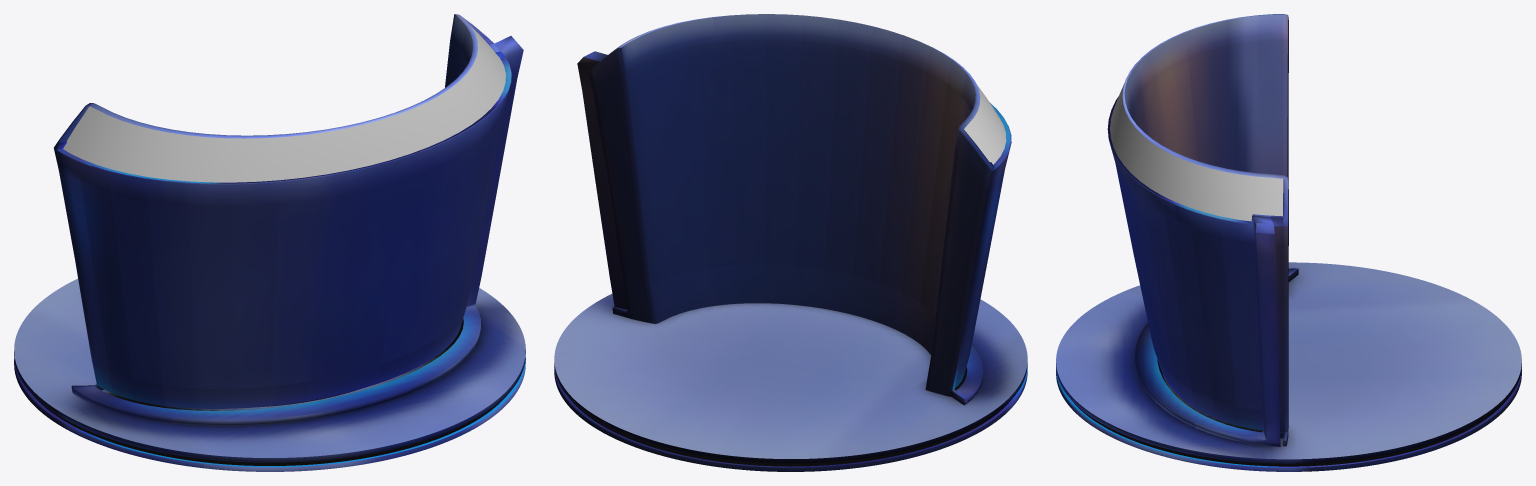
The model's file is podium.fbx.
3 renders of one model, left to right at view 1: azimuth 30°, elevation 25°; view 2: azimuth 150°, elevation 25°; view 3: azimuth 270°, elevation 25°, orthographic. The views are drawn at different scales.
Parts seen in each view (by area): view 1: Blue.001, Desk_top; view 2: Blue.001, Desk_top; view 3: Blue.001, Desk_top.
Part boxes in pixels (<box>): Blue.001: <box>14,14,525,471</box>; Desk_top: <box>63,25,505,182</box>; Blue.001: <box>554,14,1027,471</box>; Desk_top: <box>964,85,1006,164</box>; Blue.001: <box>1056,14,1521,471</box>; Desk_top: <box>1110,83,1283,221</box>.
Size of what is drawn, in the model's own units: 119 by 75.65 by 114.
